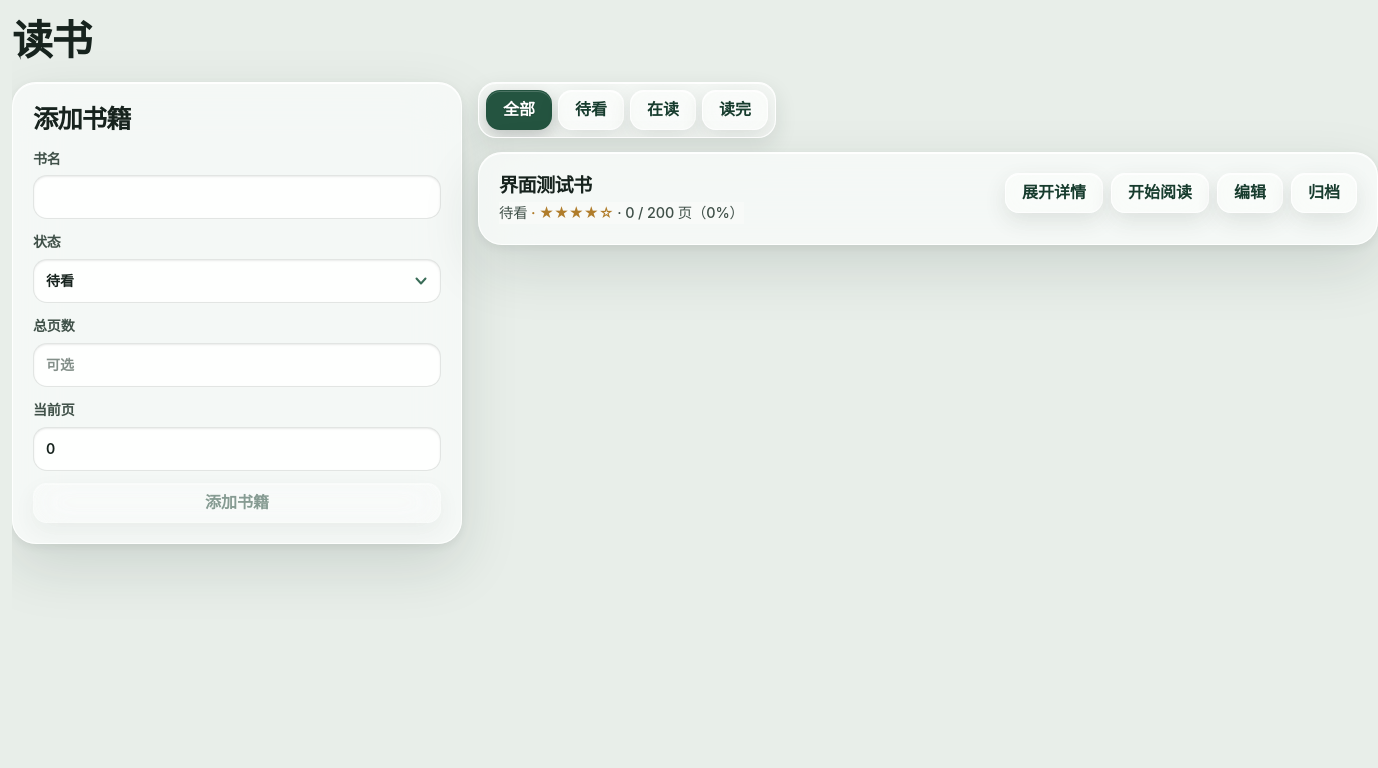
Scenario: ReadingWorkspace › filters by status tabs
Click the tab "在读" at (663, 110), box [630,90,696,130]
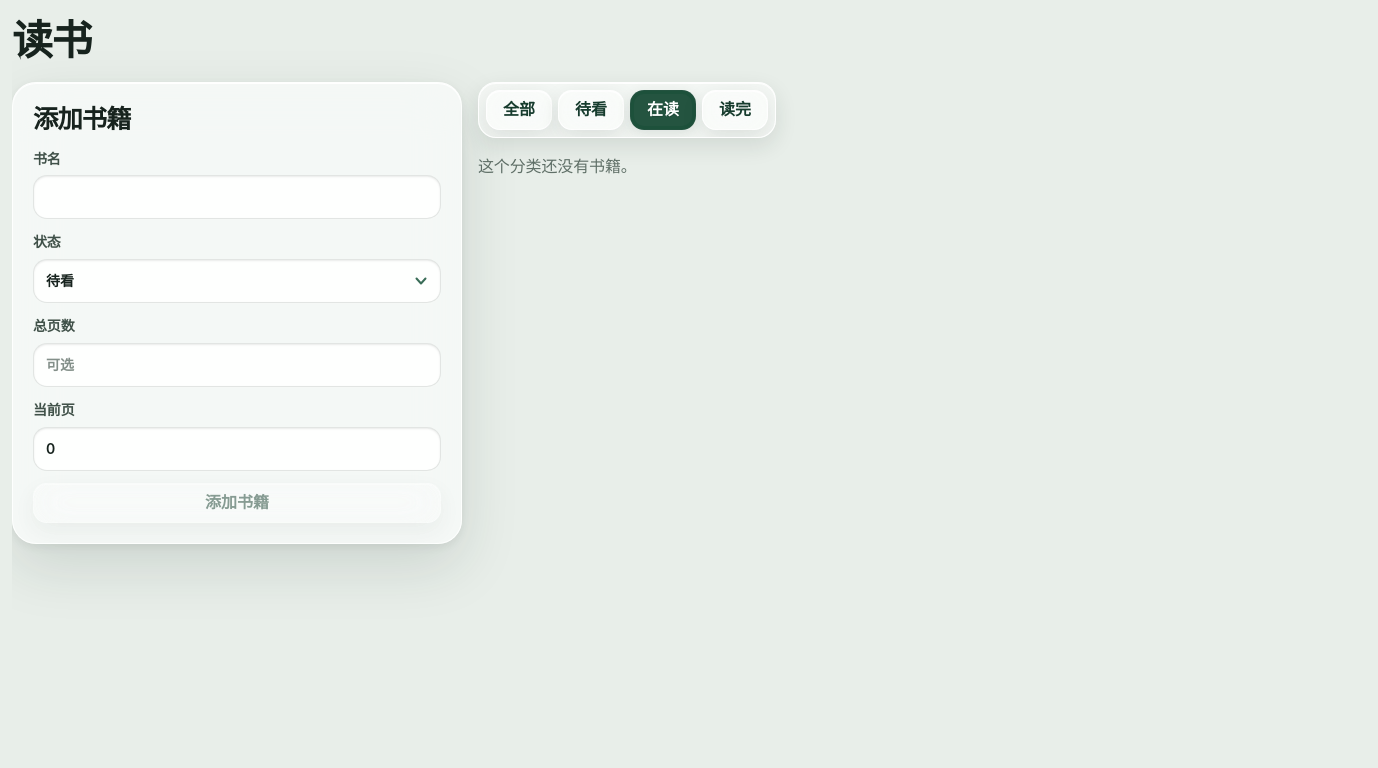
Result: the text "这个分类还没有书籍。" is shown at [478,156,637,176]
Click the tab "待看" at (591, 110), box [558,90,624,130]
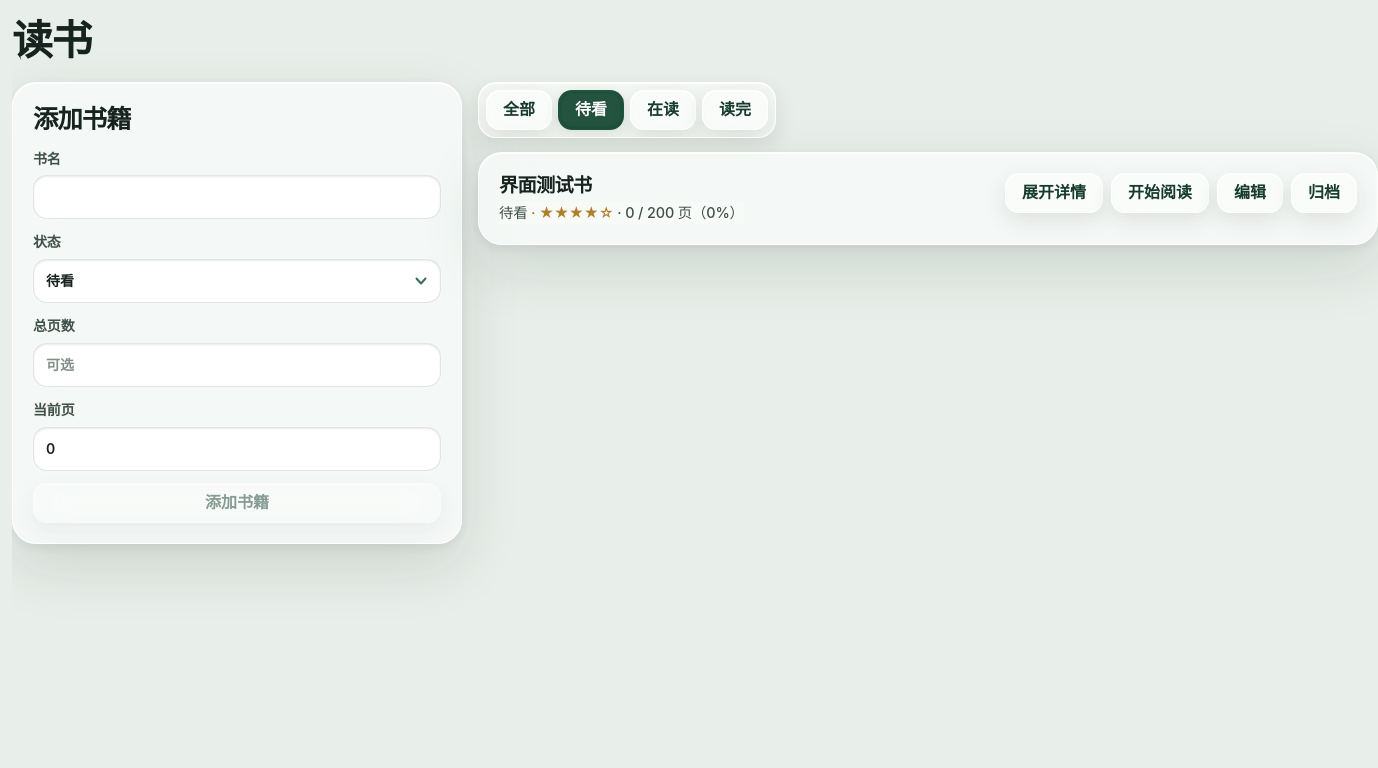
Result: the heading "界面测试书" is shown at [499,173,592,197]
